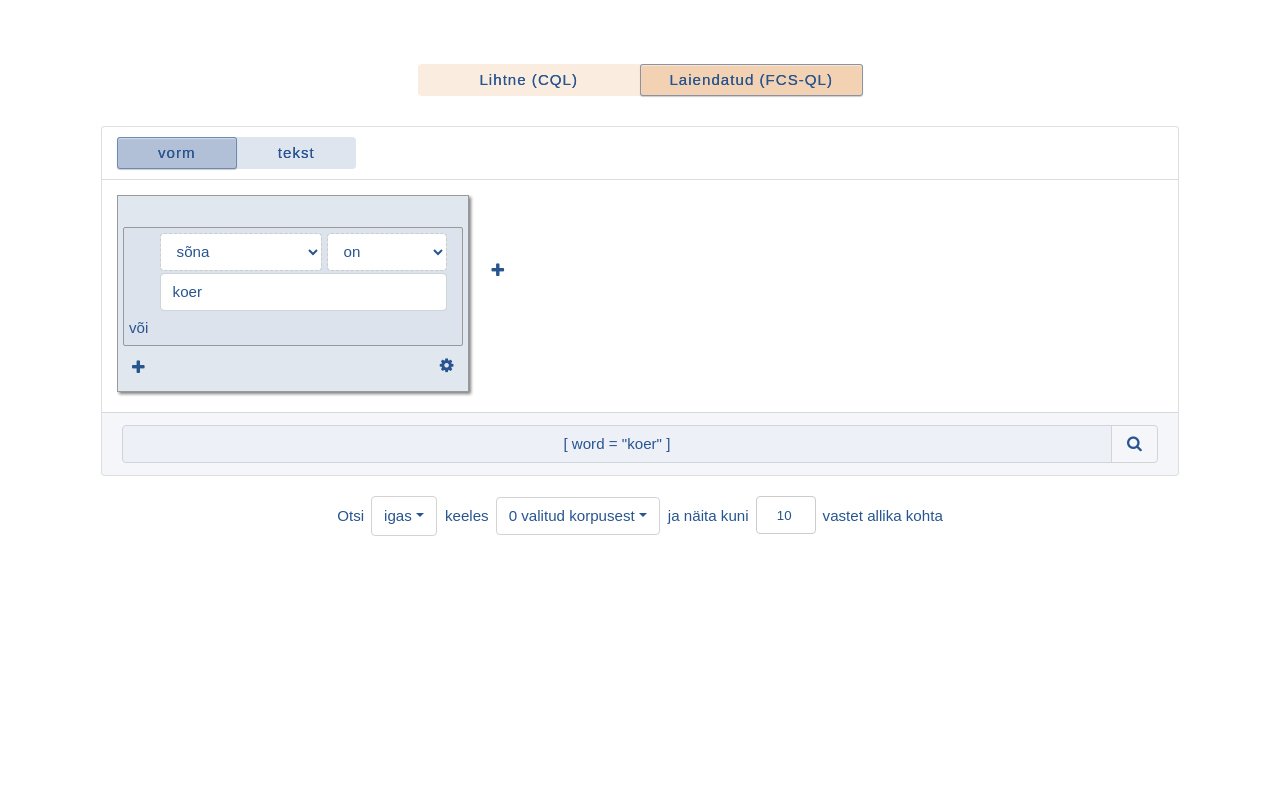
Test case: language selector modal with only "all languages"
Click the button with test id "languageSelector": (404, 516) [371,496,437,536]
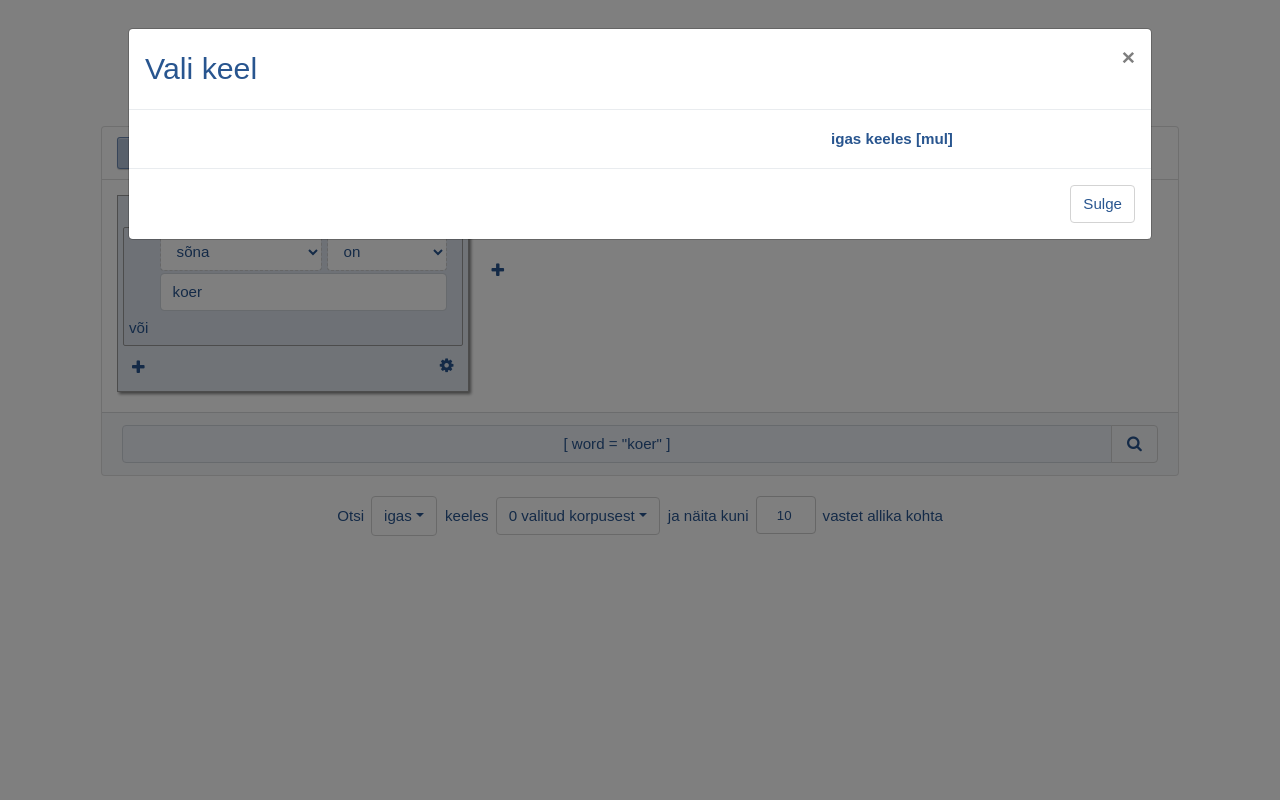
Expected: the number of buttons with test id "onelanguage" is 1, [825,126,959,152]
